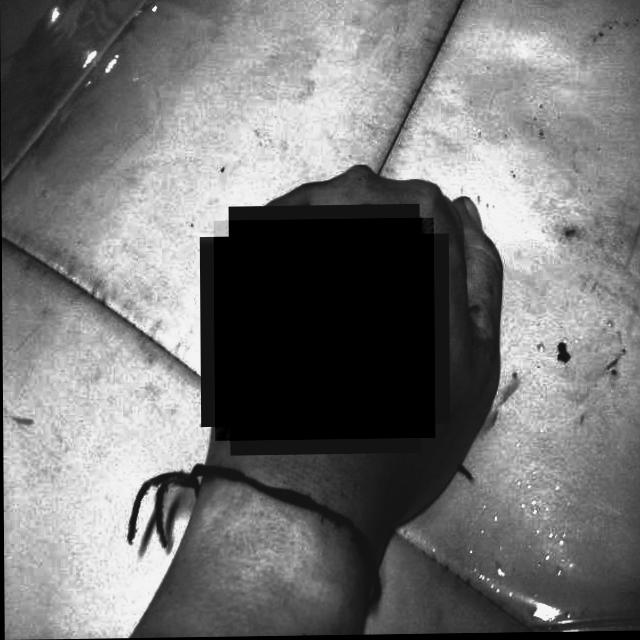qr_code: (214, 219, 435, 442)
